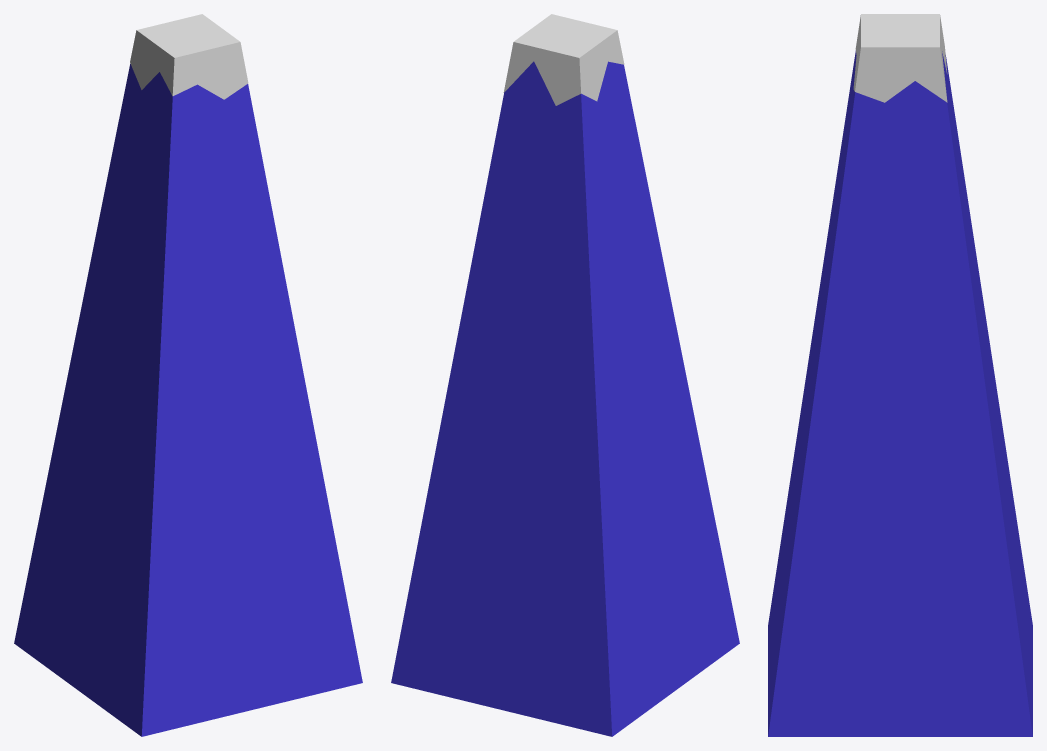
File: mountain003.fbx
The picture shows the model from 3 angles, left to right: view 1: azimuth 30°, elevation 25°; view 2: azimuth 150°, elevation 25°; view 3: azimuth 270°, elevation 25°; orthographic projection. The views are drawn at different scales.
Visible parts, largest first — view 1: mountain003; view 2: mountain003; view 3: mountain003.
Part boxes in pixels (<box>): mountain003: <box>14,14,362,736</box>; mountain003: <box>391,14,739,736</box>; mountain003: <box>768,14,1032,736</box>.
Size of the model in its own units: 676 by 1832 by 676.
